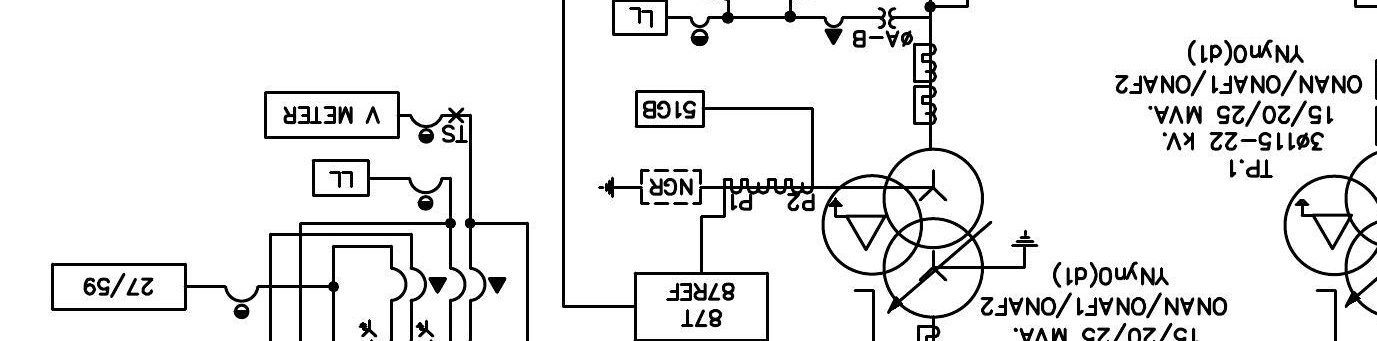11522_tx_ynyn0d1: (820, 146, 985, 320)
LL: (311, 158, 371, 198)
NGR_future: (597, 168, 703, 205)
v_m_digital: (263, 90, 401, 140)
